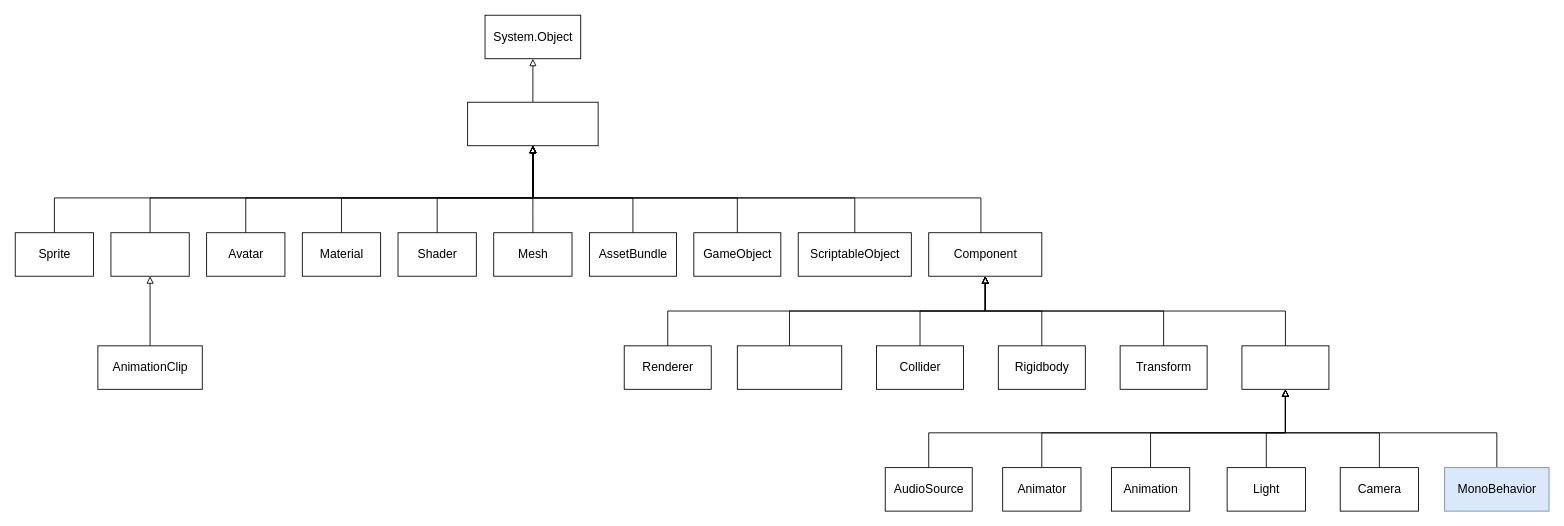
This 1564x526 diagram has some shape labels left out. The centre of each missing label's shape, as x and y in pixels:
"Behavior" belongs at (1285,367).
"Motion" belongs at (149,254).
"ParticleSystem" belongs at (789,367).
"UnityEngine.Object" belongs at (532,123).
